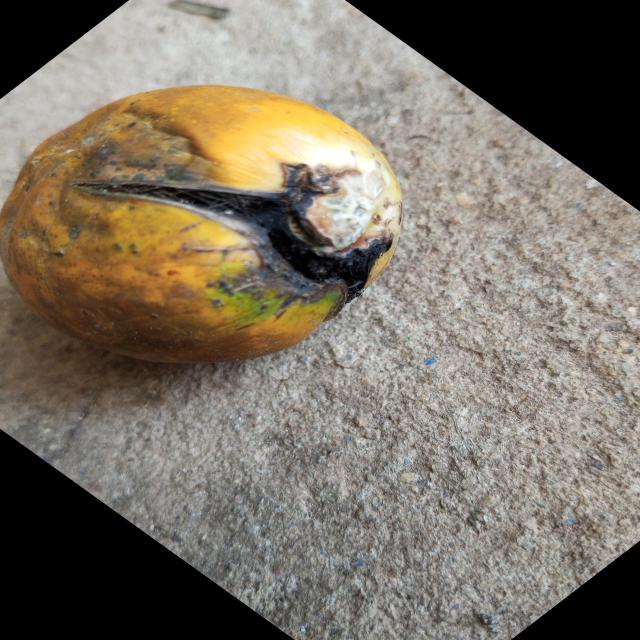damaged: (0, 84, 404, 367)
